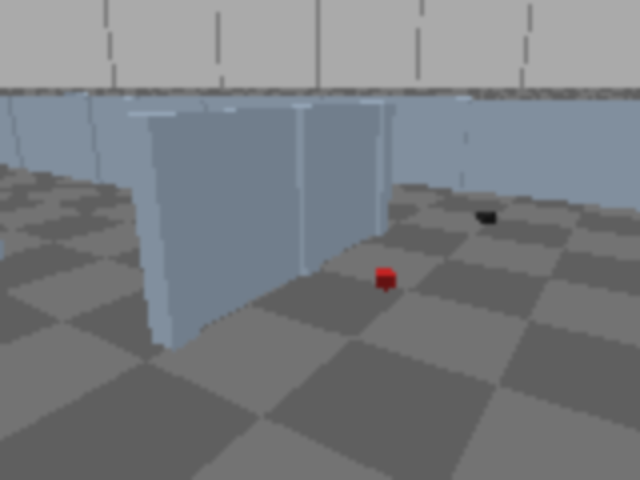puck: (376, 269, 396, 290), (476, 210, 497, 224)
